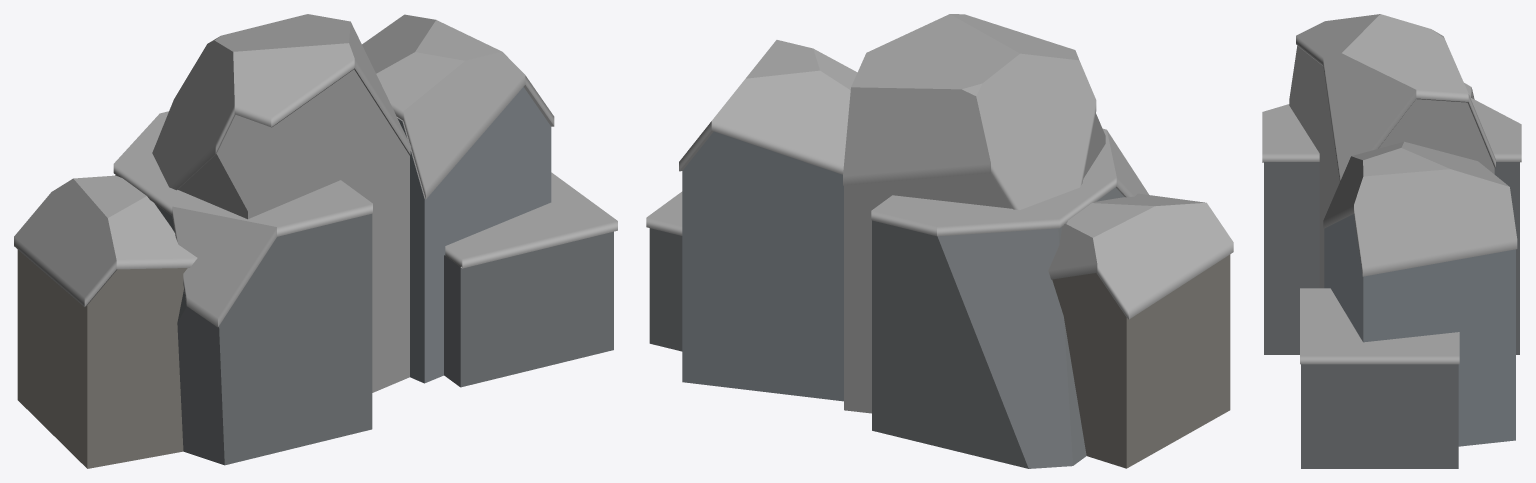
File: Rock_Wall_04.fbx
3 renders of one model, left to right at view 1: azimuth 30°, elevation 25°; view 2: azimuth 150°, elevation 25°; view 3: azimuth 270°, elevation 25°, orthographic. The views are drawn at different scales.
Parts seen in each view (by area): view 1: Rock_Wall_04; view 2: Rock_Wall_04; view 3: Rock_Wall_04.
Boxes of the visible parts, x1,y1,x2,y2 form: Rock_Wall_04: (14, 14, 617, 468); Rock_Wall_04: (646, 14, 1233, 468); Rock_Wall_04: (1262, 14, 1521, 468).
Bounding box in the file's own units: 682 × 435 × 329.
